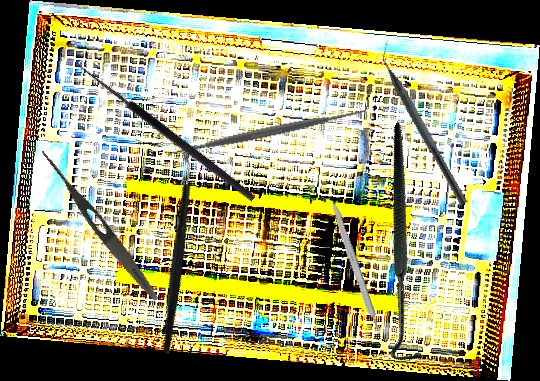Chopper: (95, 150, 254, 355), (371, 40, 478, 206)
Dressing Forceps: (34, 145, 163, 305)
Hook Surgical: (300, 121, 513, 370), (68, 61, 257, 211)
Scalpel Handle: (327, 198, 383, 337)
Spatula Surgical: (164, 98, 373, 165)
